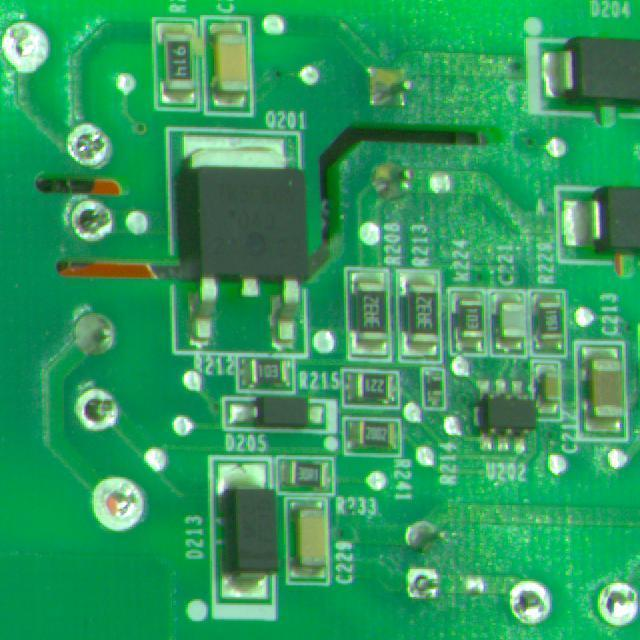Insufficient solder: (89, 467, 148, 539), (0, 18, 51, 80), (71, 380, 125, 437), (501, 572, 555, 624), (68, 194, 119, 246), (587, 583, 640, 629), (58, 124, 114, 167), (403, 563, 445, 600)
